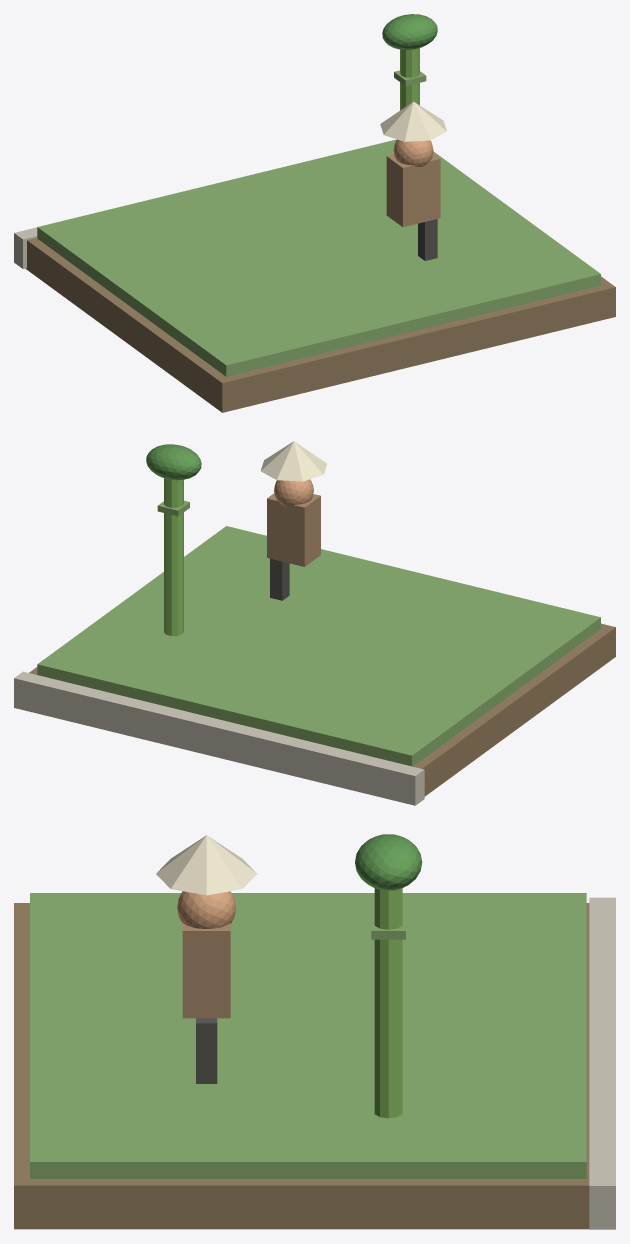
Rendered from 02_O_RungTre.glb.
3 views of the same model, one above another, from view 1: azimuth 30°, elevation 25°; view 2: azimuth 150°, elevation 25°; view 3: azimuth 270°, elevation 25° (orthographic). The views are drawn at different scales.
Parts seen in each view (by area): view 1: grass, soil, body, hat, leaf, bamboo, head, leg, border; view 2: grass, border, soil, body, bamboo, hat, leaf, head, leg; view 3: grass, soil, border, bamboo, body, hat, leaf, head, leg.
Part boxes in pixels (x1=…): grass: x1=37, y1=139, x2=600, y2=376; soil: x1=26, y1=238, x2=615, y2=412; body: x1=386, y1=153, x2=440, y2=227; hat: x1=380, y1=101, x2=446, y2=141; leaf: x1=382, y1=14, x2=437, y2=49; bamboo: x1=400, y1=48, x2=419, y2=110; head: x1=393, y1=139, x2=433, y2=166; leg: x1=418, y1=219, x2=437, y2=260; border: x1=14, y1=227, x2=37, y2=268; grass: x1=37, y1=526, x2=600, y2=766; border: x1=14, y1=671, x2=424, y2=805; soil: x1=29, y1=623, x2=615, y2=796; body: x1=267, y1=493, x2=320, y2=566; bamboo: x1=164, y1=478, x2=183, y2=635; hat: x1=261, y1=441, x2=326, y2=481; leaf: x1=146, y1=444, x2=201, y2=480; head: x1=274, y1=479, x2=313, y2=506; leg: x1=270, y1=558, x2=289, y2=600; grass: x1=30, y1=893, x2=586, y2=1178; soil: x1=14, y1=903, x2=589, y2=1229; border: x1=589, y1=897, x2=615, y2=1229; bamboo: x1=374, y1=888, x2=402, y2=1118; body: x1=182, y1=923, x2=230, y2=1018; hat: x1=156, y1=835, x2=256, y2=895; leaf: x1=355, y1=834, x2=422, y2=890; head: x1=177, y1=891, x2=235, y2=928; leg: x1=196, y1=1018, x2=217, y2=1083.
Bounding box in the file's own units: 2.55 × 1.37 × 2.25.
